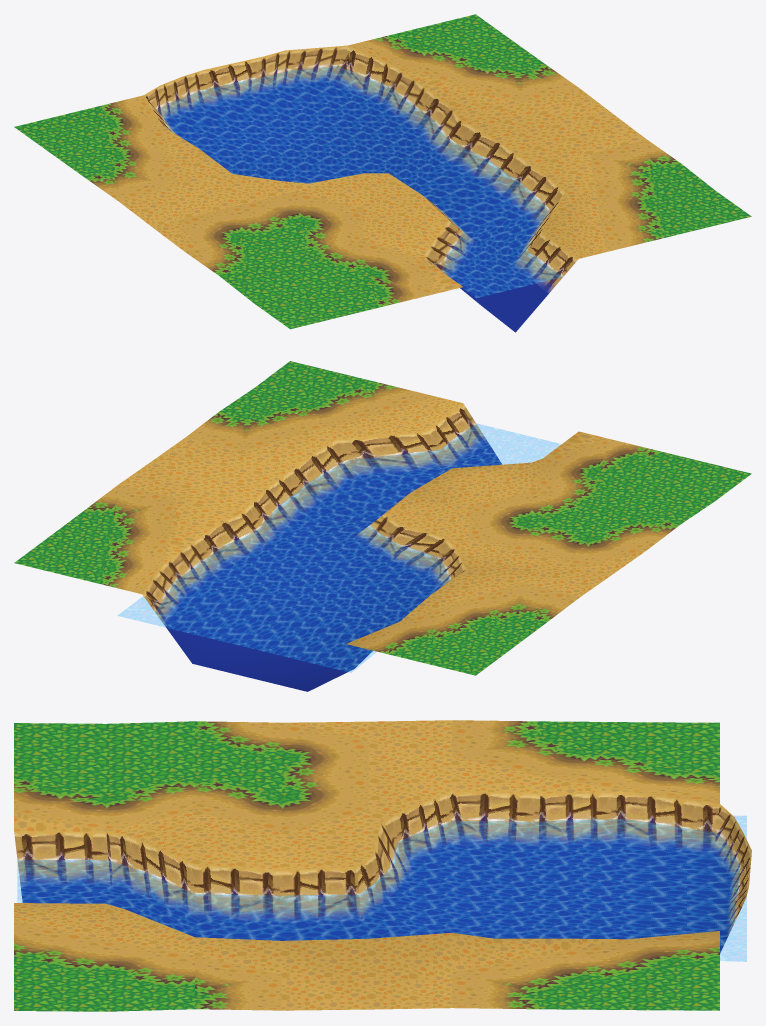
File: c_grd_r1_f_4.001.glb
3 views of the same model, one above another, from view 1: azimuth 30°, elevation 25°; view 2: azimuth 150°, elevation 25°; view 3: azimuth 270°, elevation 25° (orthographic). The views are drawn at different scales.
Parts seen in each view (by area): view 1: c_grd_r1_f_4.001; view 2: c_grd_r1_f_4.001; view 3: c_grd_r1_f_4.001.
Boxes of the visible parts, x1,y1,x2,y2 form: c_grd_r1_f_4.001: (14, 14, 751, 332); c_grd_r1_f_4.001: (14, 361, 751, 691); c_grd_r1_f_4.001: (14, 720, 751, 1011).
Size of the model in its own units: 32 by 4.37 by 34.66.
Materials: 5 (5 with a texture image).
